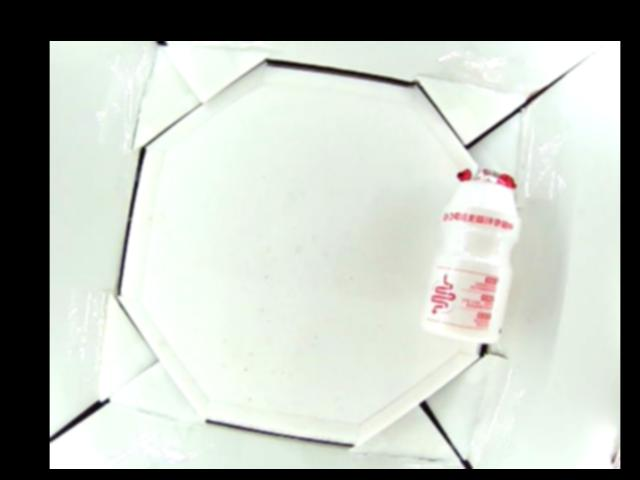Bottle: (422, 163, 519, 347)
